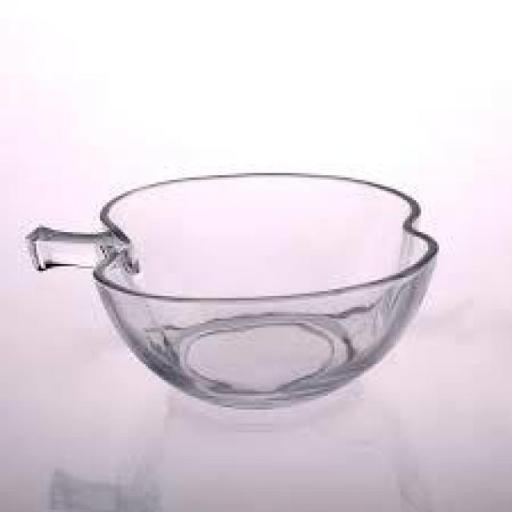glass: (22, 157, 444, 416)
